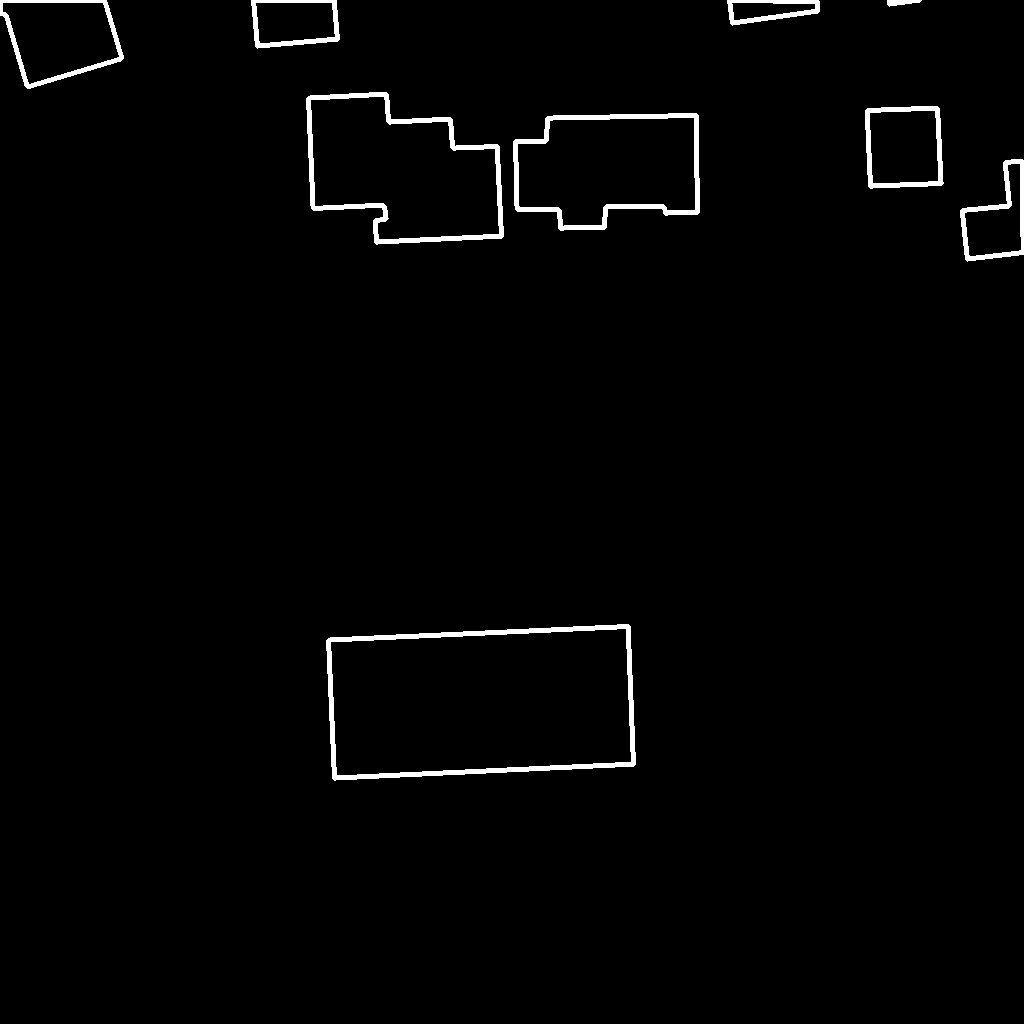building: (328, 626, 635, 779), (308, 94, 503, 243), (515, 115, 699, 229), (0, 0, 123, 88), (962, 161, 1024, 260), (867, 108, 942, 187), (253, 0, 339, 47), (729, 0, 819, 24), (889, 0, 924, 5)
